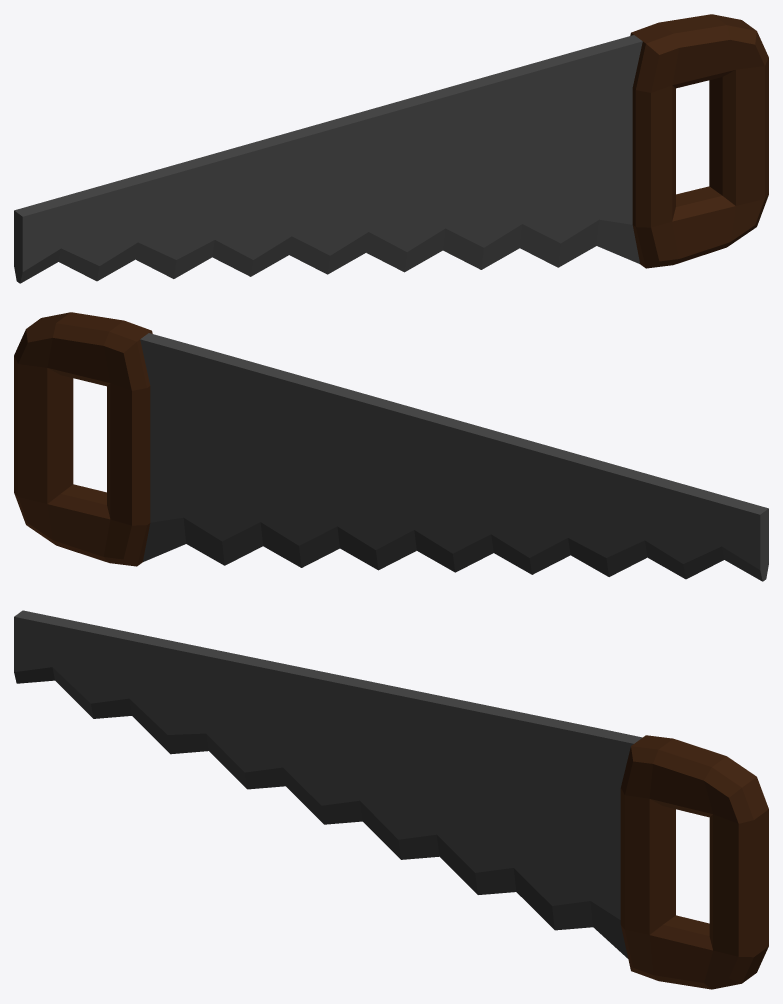
Rendered from Saw_FBX.fbx.
3 renders of one model, top to bottom at view 1: azimuth 30°, elevation 25°; view 2: azimuth 150°, elevation 25°; view 3: azimuth 330°, elevation 25°, orthographic.
Parts seen in each view (by area): view 1: Saw; view 2: Saw; view 3: Saw.
Part boxes in pixels (x1,y1,x2,y2): Saw: [14, 14, 768, 283]; Saw: [14, 312, 768, 581]; Saw: [14, 610, 768, 989].
Bounding box in the file's own units: 51.94 × 15.46 × 3.17.
